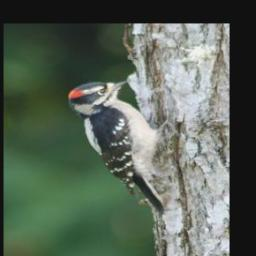Woodpecker: (65, 76, 174, 218)
